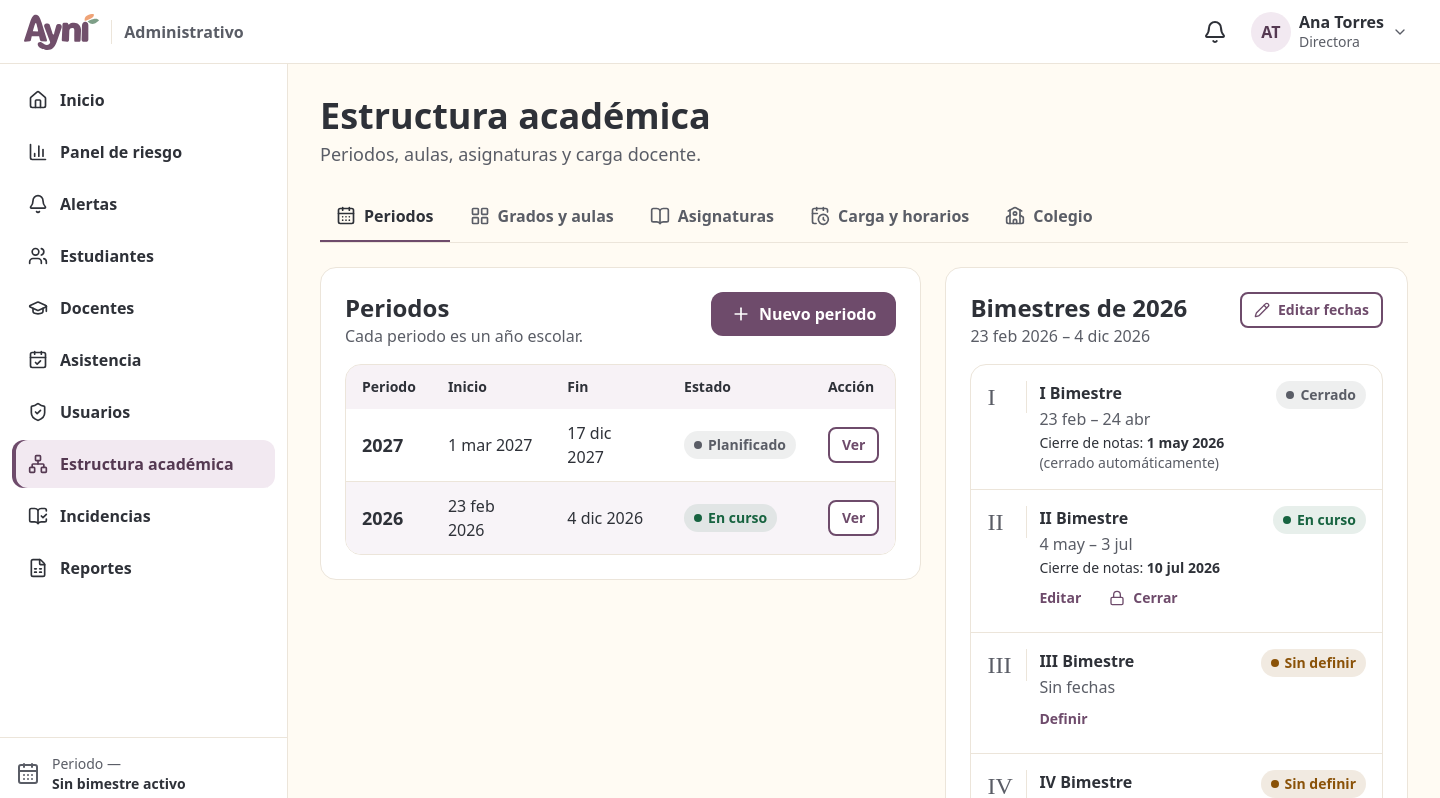
Test case: Periodos (RF-17, RF-18) › inicia un periodo planificado tras confirmar y avisa si ya hay otro en curso (RN-01)
Click the button with aria-label "Ver el periodo 2027" at (854, 445), box [828,427,879,463]
(page scrolled)
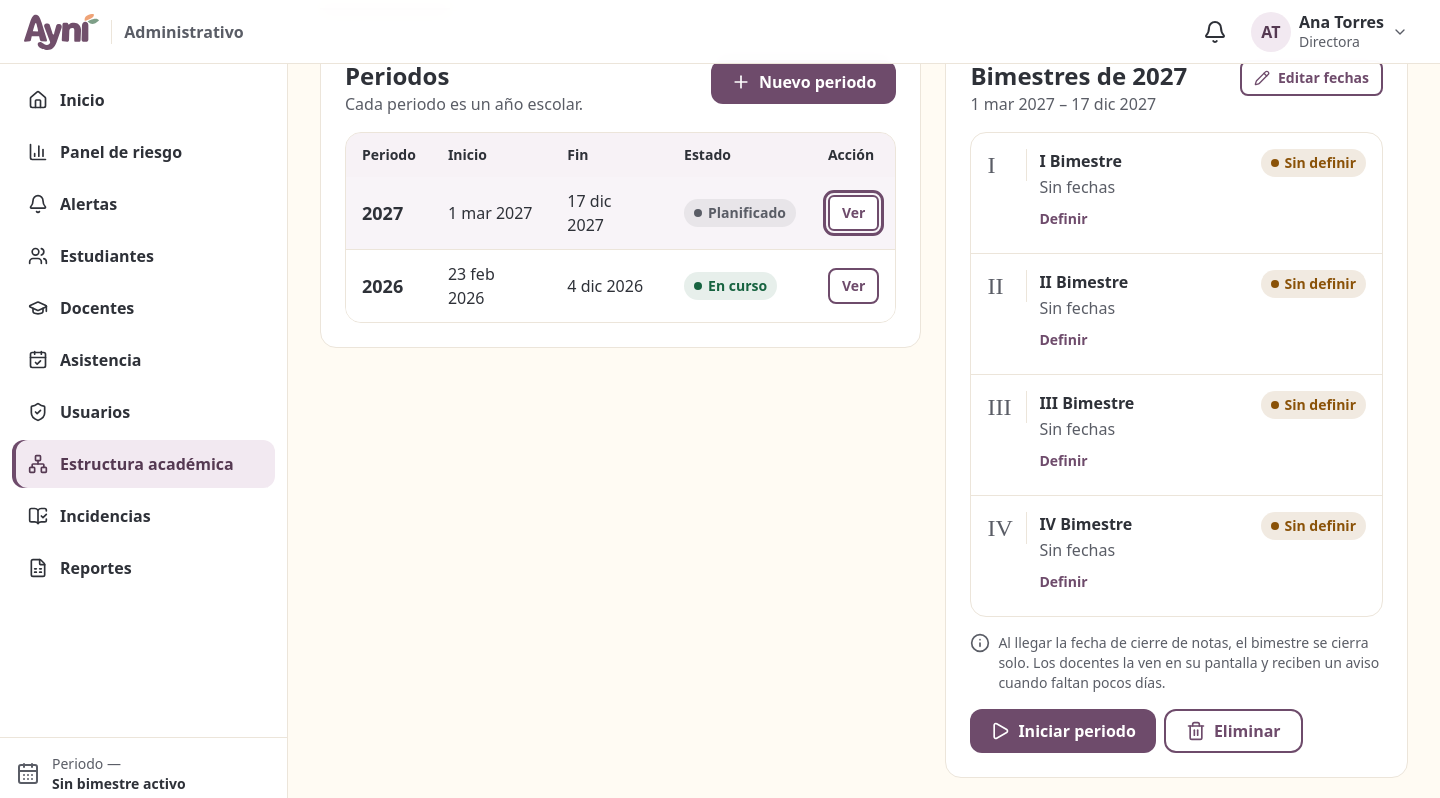
Click the button "Iniciar periodo" at (1063, 731), box [970,709,1156,753]
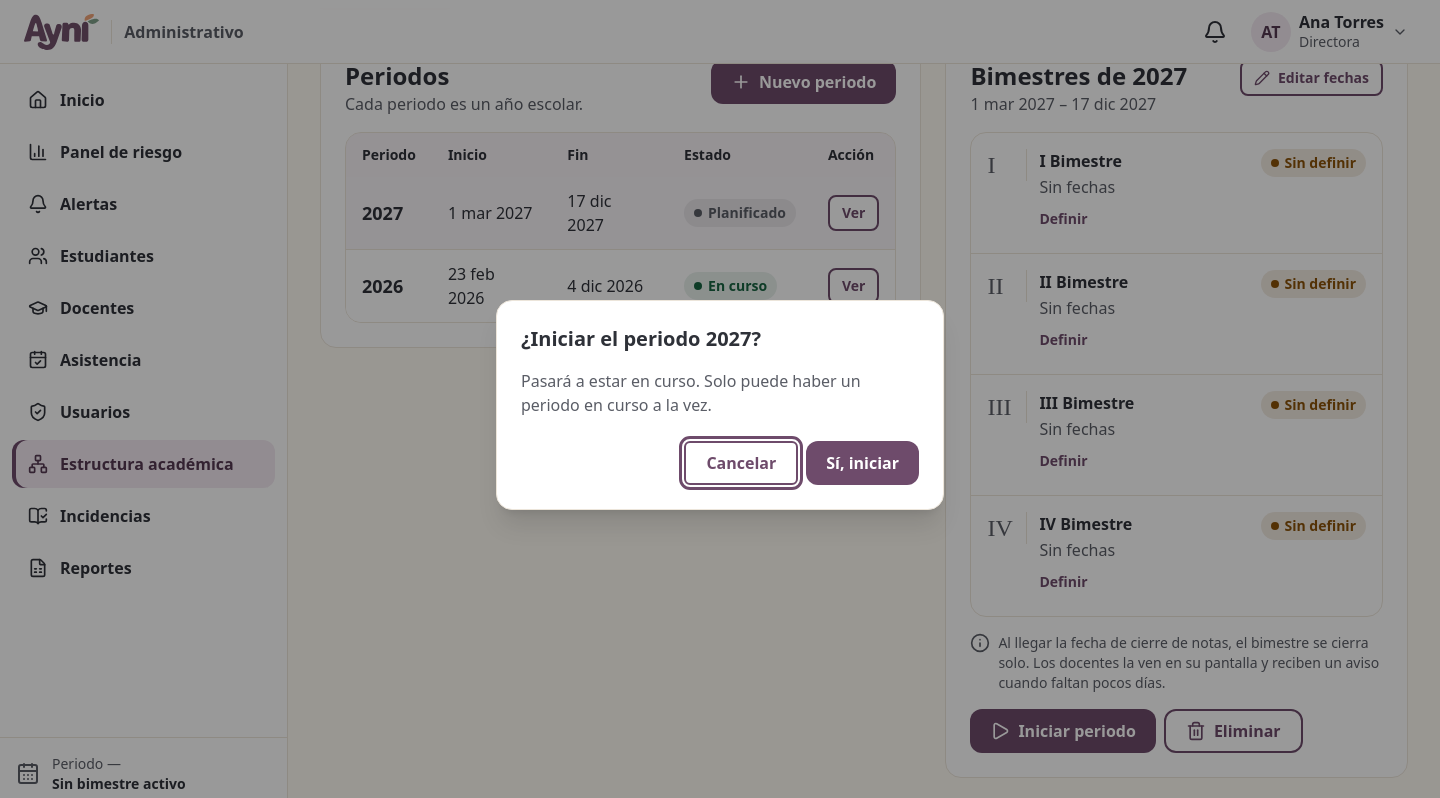
Click the button "Sí, iniciar" at (863, 463), box [806,441,919,485]
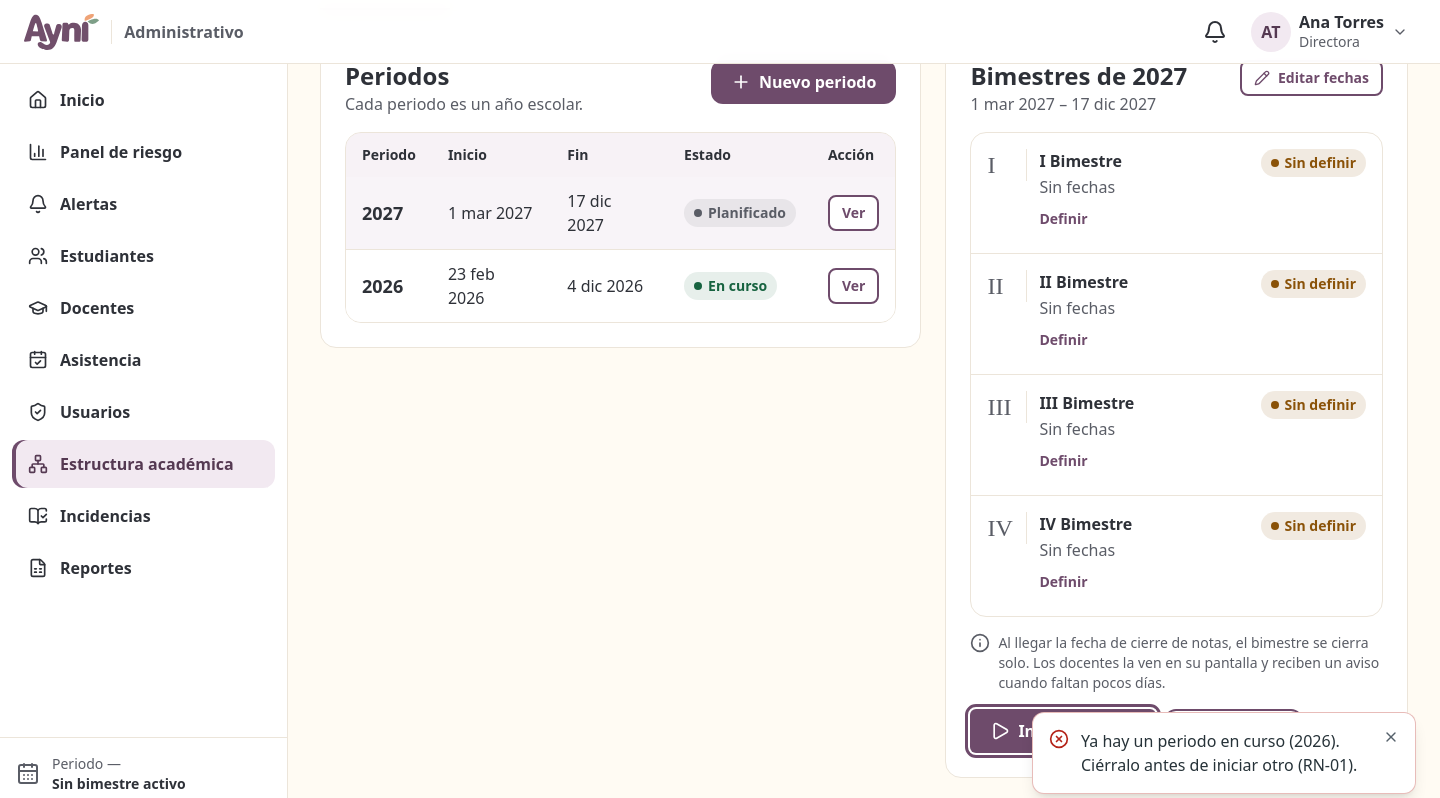
Now the text "Ya hay un periodo en curso (2026). Ciérralo antes de iniciar otro (RN-01)." is shown, box [1081,729,1371,777]
